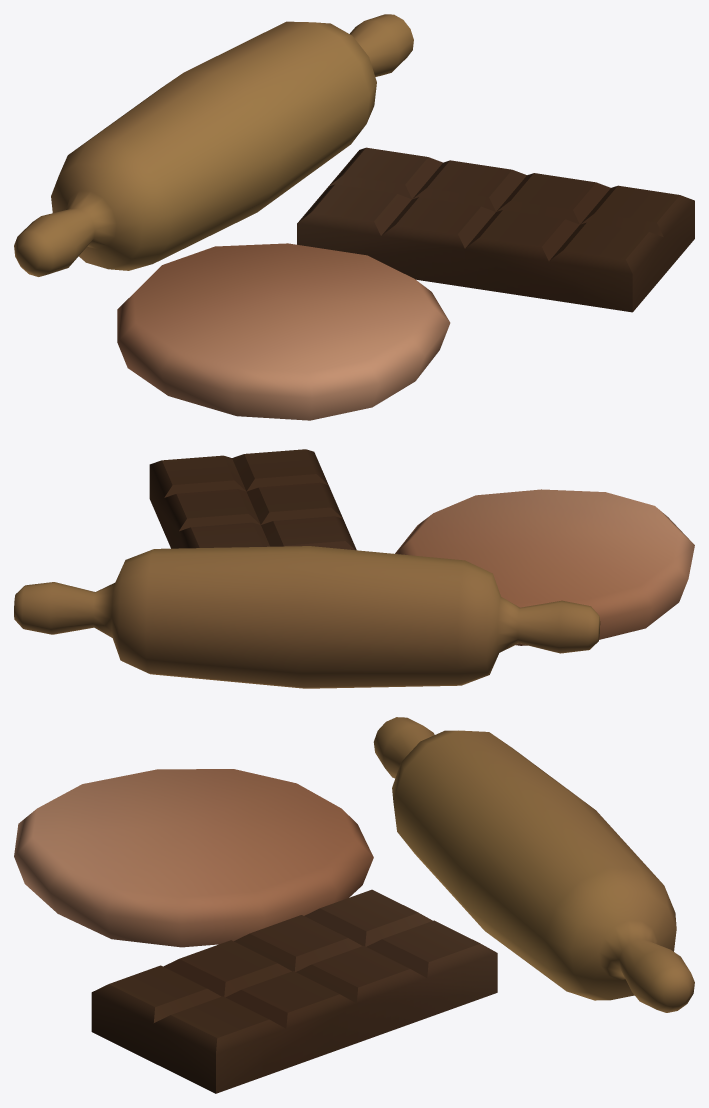
Rendered from Station Cookies.fbx.
3 renders of one model, top to bottom at view 1: azimuth 30°, elevation 25°; view 2: azimuth 150°, elevation 25°; view 3: azimuth 270°, elevation 25°, orthographic. The views are drawn at different scales.
Parts seen in each view (by area): view 1: Station_Cookies; view 2: Station_Cookies; view 3: Station_Cookies.
Boxes of the visible parts, box(x1,y1,x2,y2) form: Station_Cookies: box(14, 14, 694, 420); Station_Cookies: box(14, 449, 694, 688); Station_Cookies: box(14, 717, 694, 1093).
Bounding box in the file's own units: 33.2 × 7.7 × 32.15.
